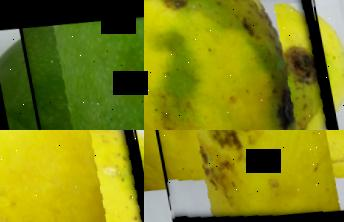Ripe: (144, 0, 340, 130), (144, 130, 344, 222), (0, 130, 144, 222)
Unripe: (19, 0, 144, 130)
